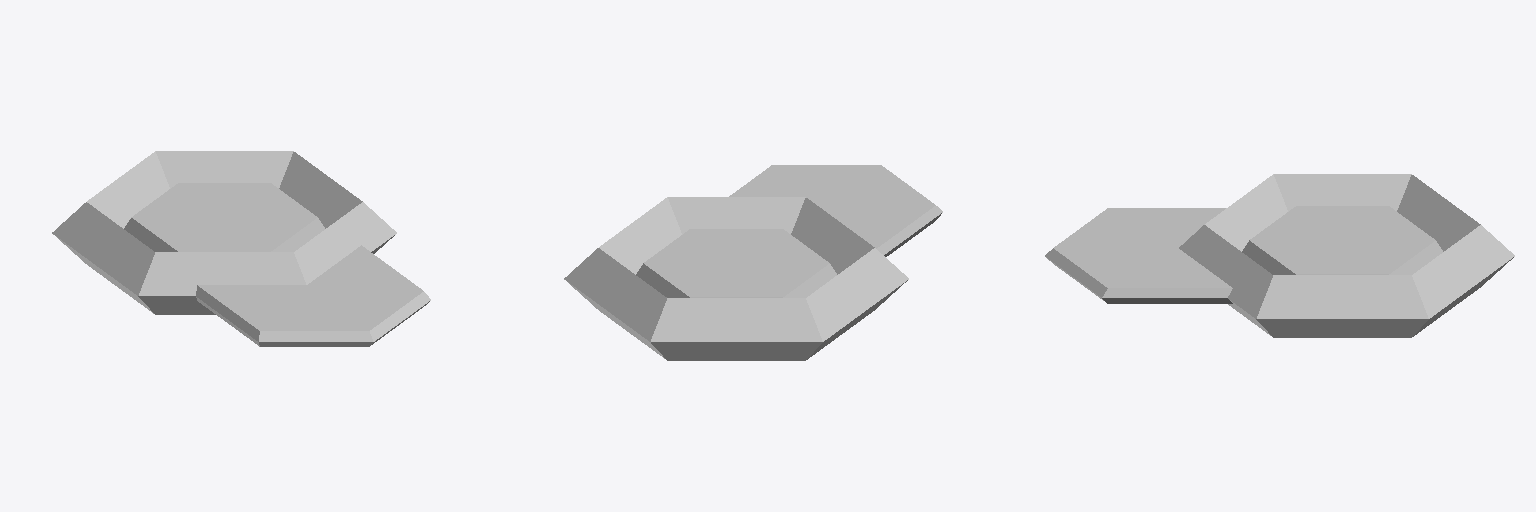
The model's file is medal-3.obj.
The picture shows the model from 3 angles: view 1: azimuth 30°, elevation 25°; view 2: azimuth 150°, elevation 25°; view 3: azimuth 270°, elevation 25°; orthographic projection.
Parts seen in each view (by area): view 1: medal_Cylinder; view 2: medal_Cylinder; view 3: medal_Cylinder.
Boxes of the visible parts, <box> form: medal_Cylinder: <box>52,151,430,346</box>; medal_Cylinder: <box>564,165,942,360</box>; medal_Cylinder: <box>1045,174,1514,337</box>.
Size of the model in its own units: 17.32 by 4 by 27.25.